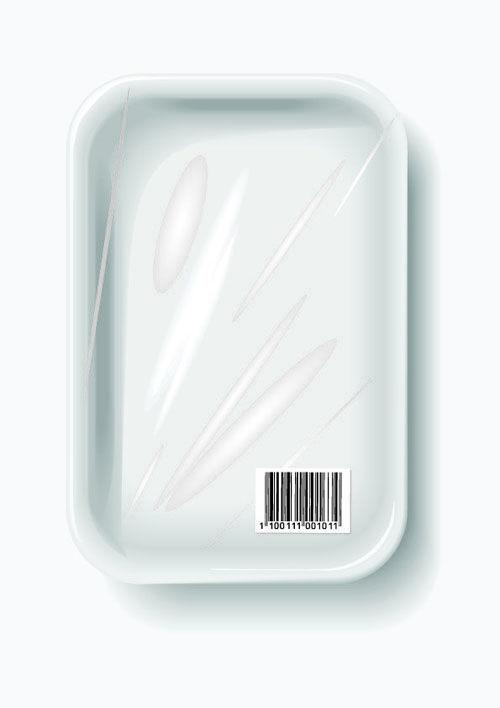PS: (0, 23, 500, 673)
